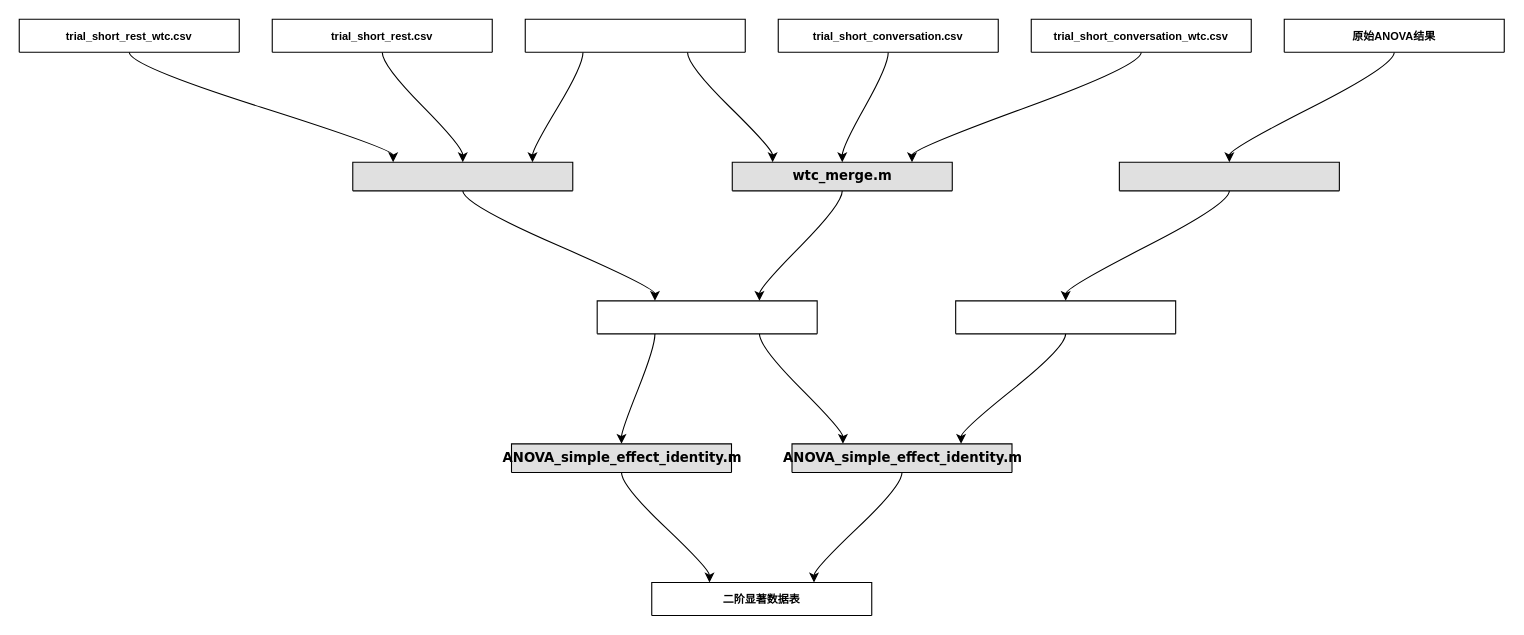
Image size: 1524x635. Some labels were removed from this diagram. Each missing label, with the centre of its shape:
"ANOVA_get_real_table.m" belongs at [1228,176].
"wtc_merge_rest.m" belongs at [462,176].
"wtc数据" belongs at [634,35].
"一阶显著数据表" belongs at [1065,317].
"集成WTC数据" belongs at [706,317].
